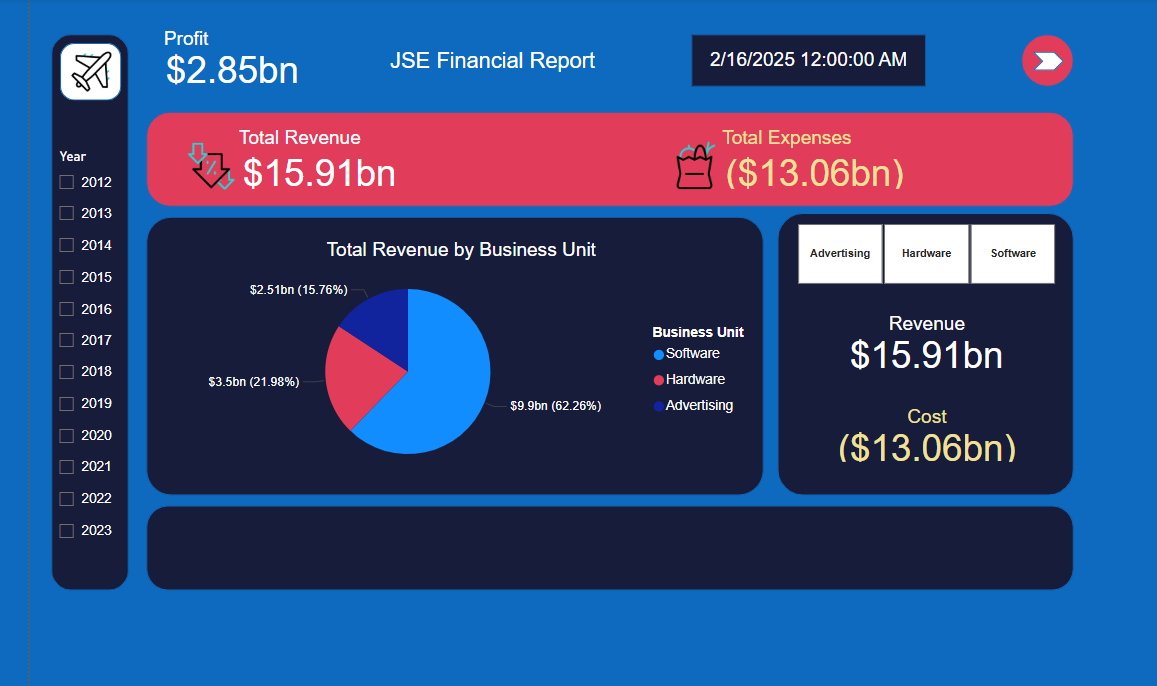

This screenshot's page, from the dashboard's own definition file:
{"tool":"powerbi","page":{"name":"Page 1","canvas":[1280,720],"ordinal":0},"visuals":[{"type":"shape","box":[20.8,35.5,75.8,544.2],"z":0},{"type":"image","box":[613.3,135.7,75.8,56.3],"z":0,"group":"g2"},{"type":"card","fields":{"Values":["Financial_Data.Revenue"]},"box":[199.3,149.2,168.8,42.8],"z":0,"group":"g1"},{"type":"shape","box":[113.7,111.3,907.3,92.9],"z":1000},{"type":"image","box":[134.5,137,85.6,55],"z":1000,"group":"g1"},{"type":"textbox","box":[667.1,121,145.5,31.8],"z":2000,"group":"g2"},{"type":"textbox","box":[199.3,121.1,141.8,32],"z":2000,"group":"g1"},{"type":"shape","box":[113.7,214,604.1,272.7],"z":2000},{"type":"card","fields":{"Values":["Financial_Data.Cost"]},"box":[667.1,149.1,200,42.8],"z":3000,"group":"g2"},{"type":"shape","box":[113.7,496.5,907.3,83.2],"z":3000},{"type":"shape","box":[731.3,210.3,289.8,276.4],"z":4000},{"type":"shape","box":[969.7,35.5,51.4,51.4],"z":5000},{"type":"slicer","fields":{"Values":["Financial_Data.Year"]},"box":[15.9,143.1,73.4,415.8],"z":6000},{"type":"shape","box":[646.9,35.5,229.9,51.4],"z":7000},{"type":"shape","box":[29.3,44,59.9,56.3],"z":8000},{"type":"image","box":[24.5,47.7,70.9,48.9],"z":9000},{"type":"group","id":"g1","title":"Group 1","box":[134.5,121.1,233.6,70.9],"z":10000},{"type":"slicer","fields":{"Values":["Financial_Data.Business Unit"]},"box":[724.9,214.3,301.9,72.3],"z":11000},{"type":"card","title":"Profit","fields":{"Values":["Financial_Data.Profit"]},"box":[126,29.3,144.3,59.9],"z":12000},{"type":"pieChart","title":"Total Revenue by Business Unit","fields":{"Category":["Financial_Data.Business Unit"],"Y":["Financial_Data.Revenue"]},"box":[126,236,591.9,238.5],"z":13000},{"type":"textbox","box":[347.3,44,220.1,42.8],"z":14000},{"type":"card","fields":{"Values":["Financial_Data.Current_Date"]},"box":[637.1,39.1,249.5,45.2],"z":15000},{"type":"shape","box":[980.7,52.6,30.6,18.3],"z":16000},{"type":"group","id":"g2","title":"Group 2","box":[613.3,121,253.8,70.9],"z":17000},{"type":"card","title":"Cost","fields":{"Values":["Financial_Data.Cost"]},"box":[771.6,398.6,211.6,59.9],"z":18000},{"type":"card","title":"Revenue","fields":{"Values":["Financial_Data.Revenue"]},"box":[771.6,308.2,211.6,59.9],"z":19000}]}

Visuals, with their boxes on the page's 1280x720 design canvas (x1, y1, x2, y2). These are canvas units, not pixel positions in the 1157x686 screenshot, which may show the page scaled, cropped or inside an application window:
shape: pyautogui.locateOnScreen(21, 36, 97, 580)
image: pyautogui.locateOnScreen(613, 136, 689, 192)
card - Financial_Data.Revenue: pyautogui.locateOnScreen(199, 149, 368, 192)
shape: pyautogui.locateOnScreen(114, 111, 1021, 204)
image: pyautogui.locateOnScreen(134, 137, 220, 192)
textbox: pyautogui.locateOnScreen(667, 121, 813, 153)
textbox: pyautogui.locateOnScreen(199, 121, 341, 153)
shape: pyautogui.locateOnScreen(114, 214, 718, 487)
card - Financial_Data.Cost: pyautogui.locateOnScreen(667, 149, 867, 192)
shape: pyautogui.locateOnScreen(114, 496, 1021, 580)
shape: pyautogui.locateOnScreen(731, 210, 1021, 487)
shape: pyautogui.locateOnScreen(970, 36, 1021, 87)
slicer - Financial_Data.Year: pyautogui.locateOnScreen(16, 143, 89, 559)
shape: pyautogui.locateOnScreen(647, 36, 877, 87)
shape: pyautogui.locateOnScreen(29, 44, 89, 100)
image: pyautogui.locateOnScreen(24, 48, 95, 97)
"Group 1" group: pyautogui.locateOnScreen(134, 121, 368, 192)
slicer - Financial_Data.Business Unit: pyautogui.locateOnScreen(725, 214, 1027, 287)
"Profit" card: pyautogui.locateOnScreen(126, 29, 270, 89)
"Total Revenue by Business Unit" pieChart: pyautogui.locateOnScreen(126, 236, 718, 474)
textbox: pyautogui.locateOnScreen(347, 44, 567, 87)
card - Financial_Data.Current_Date: pyautogui.locateOnScreen(637, 39, 887, 84)
shape: pyautogui.locateOnScreen(981, 53, 1011, 71)
"Group 2" group: pyautogui.locateOnScreen(613, 121, 867, 192)
"Cost" card: pyautogui.locateOnScreen(772, 399, 983, 458)
"Revenue" card: pyautogui.locateOnScreen(772, 308, 983, 368)
